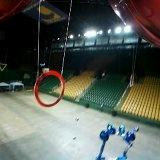Orange_Circle_GShape: (34, 69, 65, 106)
Yellow_Triangle_Gshape: (0, 63, 6, 72)
